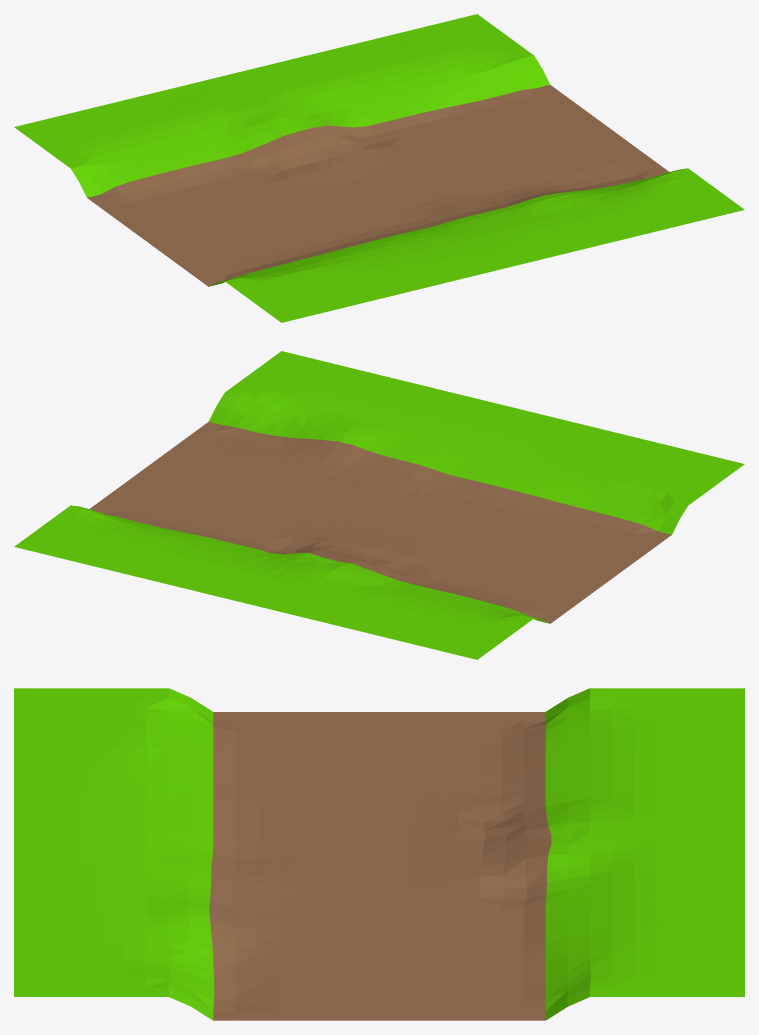
File: Road_1.fbx
The picture shows the model from 3 angles, top to bottom: view 1: azimuth 30°, elevation 25°; view 2: azimuth 150°, elevation 25°; view 3: azimuth 270°, elevation 25°; orthographic projection. The views are drawn at different scales.
Parts seen in each view (by area): view 1: Road 1_LOD0; view 2: Road 1_LOD0; view 3: Road 1_LOD0.
Part boxes in pixels (box(x1,y1,x2,y2)): Road 1_LOD0: box(14, 14, 744, 322); Road 1_LOD0: box(14, 351, 744, 659); Road 1_LOD0: box(14, 688, 744, 1020).
Size of what is drawn, in the model's own units: 1000 by 40.3 by 1000.
